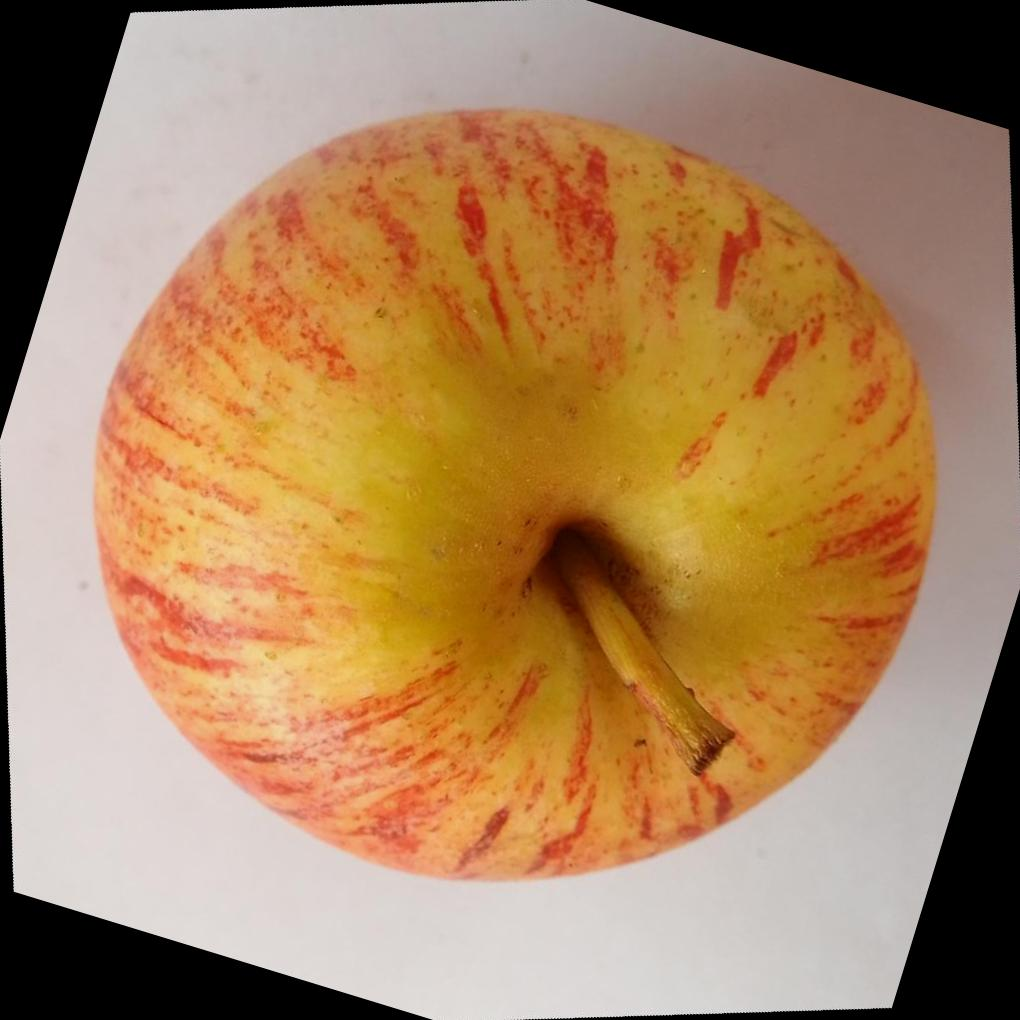FreshGuava: (85, 101, 937, 884)
